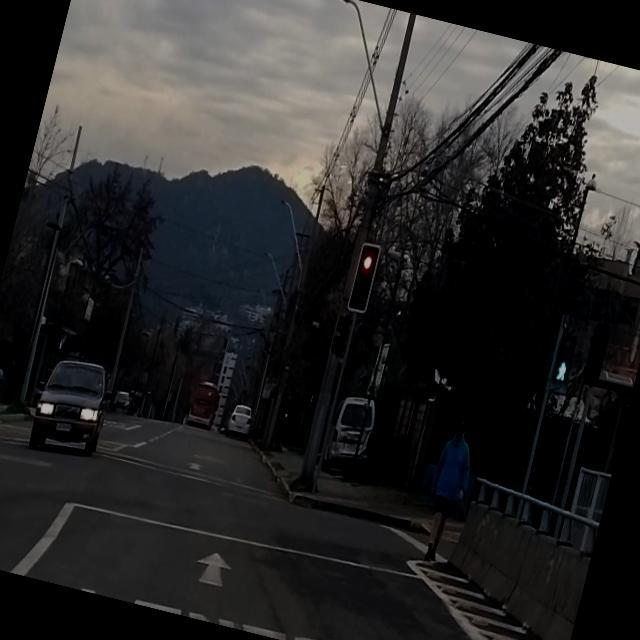person: (412, 420, 483, 570)
